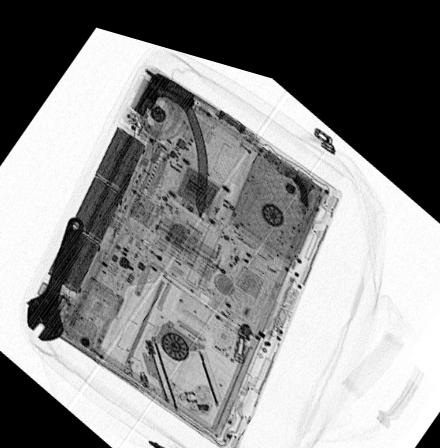Wrench: (24, 211, 85, 338)
